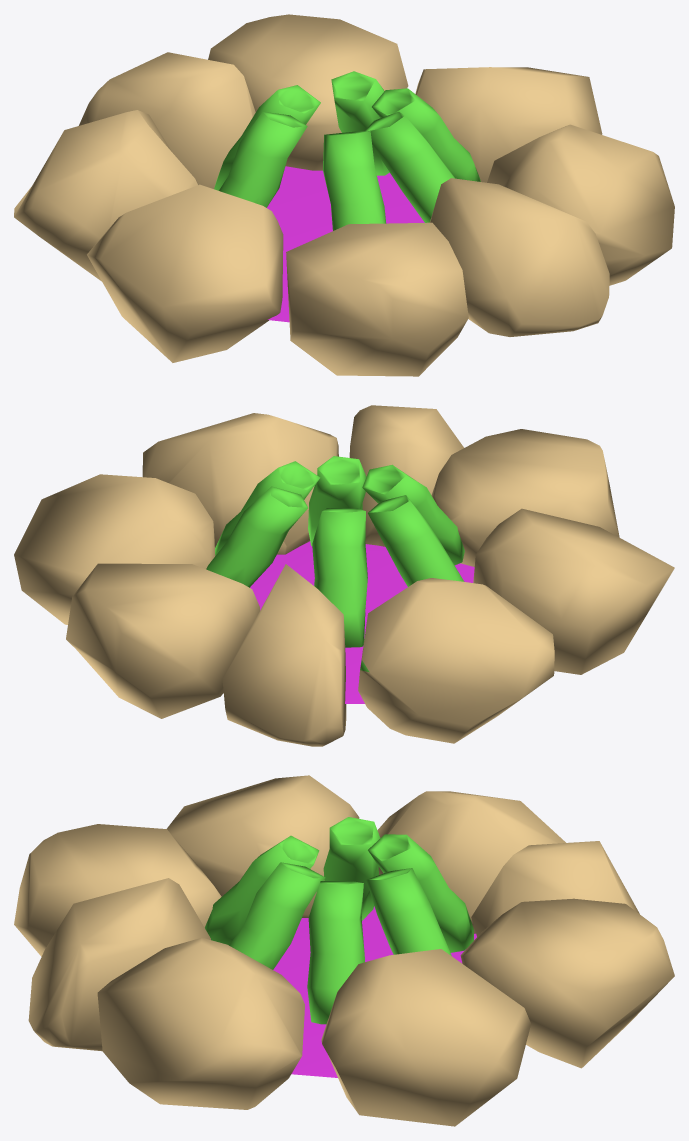
Rendered from CampFire.fbx.
3 renders of one model, top to bottom at view 1: azimuth 30°, elevation 25°; view 2: azimuth 150°, elevation 25°; view 3: azimuth 270°, elevation 25°, orthographic. The views are drawn at different scales.
Parts seen in each view (by area): view 1: camp_fire; view 2: camp_fire; view 3: camp_fire.
Boxes of the visible parts, x1,y1,x2,y2 form: camp_fire: (14, 14, 674, 376); camp_fire: (14, 405, 674, 746); camp_fire: (14, 775, 674, 1126).
Bounding box in the file's own units: 284 × 78.86 × 291.
